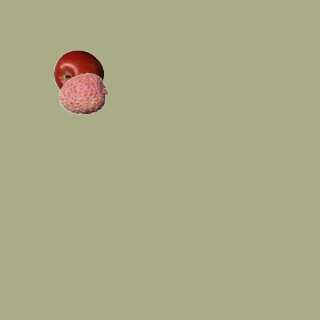Apple Braeburn: (53, 49, 103, 99)
Lychee: (58, 68, 108, 118)
